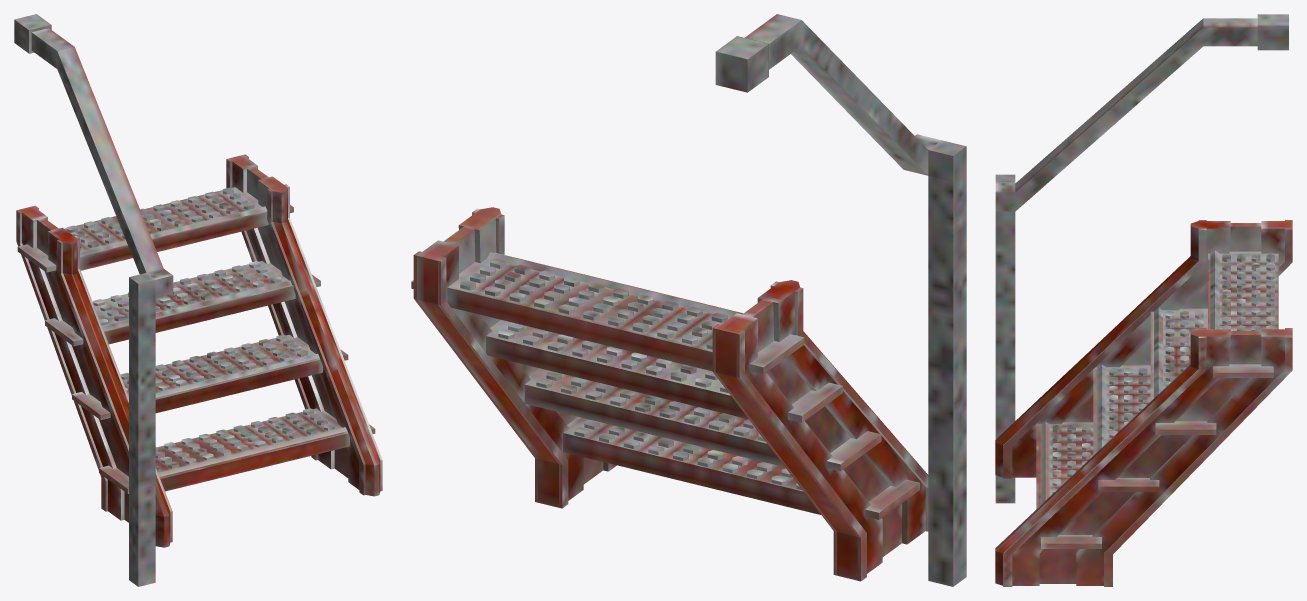
Rendered from lest 1.fbx.
The picture shows the model from 3 angles, left to right: view 1: azimuth 30°, elevation 25°; view 2: azimuth 150°, elevation 25°; view 3: azimuth 270°, elevation 25°; orthographic projection. The views are drawn at different scales.
Visible parts, largest first — view 1: Cube.033; view 2: Cube.033; view 3: Cube.033.
Part boxes in pixels (x1,y1,x2,y2): Cube.033: (14, 14, 382, 586); Cube.033: (411, 14, 966, 586); Cube.033: (995, 14, 1292, 586).
Size of the model in its own units: 401 by 686 by 379.
